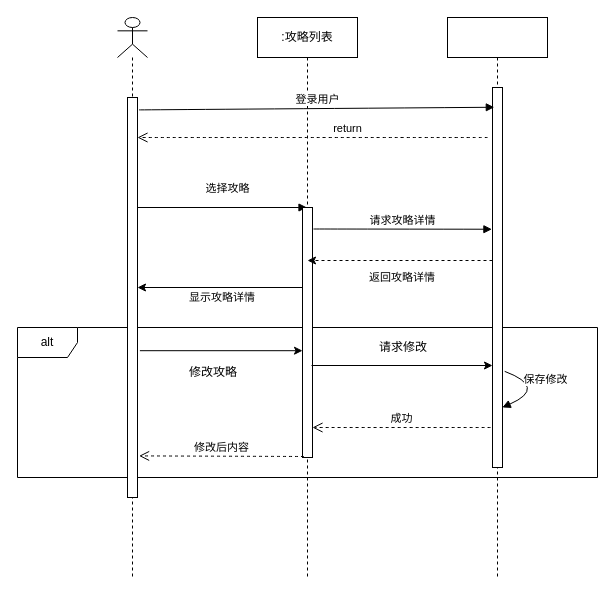
Image size: 615x595. Some labels were removed from this diagram. Each missing label, with the box of its shape:
:系统: (446, 16, 548, 578)
用户: (116, 16, 148, 578)
